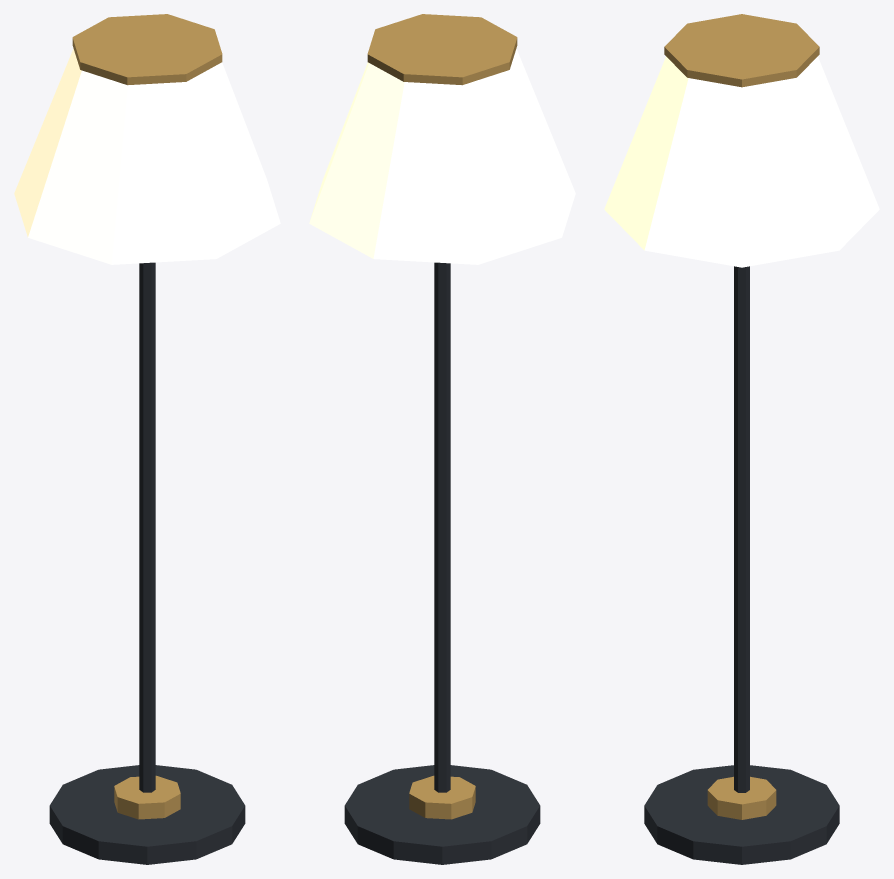
The model's file is floor_lamp.glb.
The picture shows the model from 3 angles, left to right: view 1: azimuth 30°, elevation 25°; view 2: azimuth 150°, elevation 25°; view 3: azimuth 270°, elevation 25°; orthographic projection.
Parts seen in each view (by area): view 1: FloorLamp; view 2: FloorLamp; view 3: FloorLamp.
Boxes of the visible parts, x1,y1,x2,y2 form: FloorLamp: (14, 14, 280, 864); FloorLamp: (309, 14, 575, 864); FloorLamp: (604, 14, 879, 864).
Bounding box in the file's own units: 0.48 × 1.49 × 0.48.
